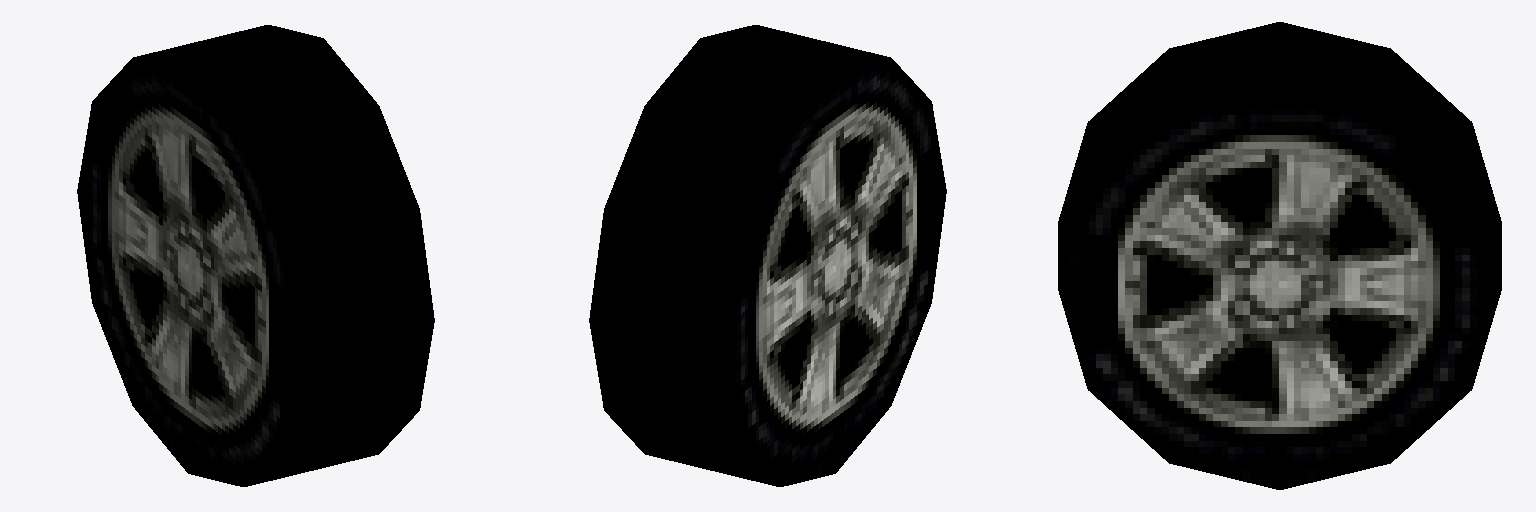
3 renders of one model, left to right at view 1: azimuth 30°, elevation 25°; view 2: azimuth 150°, elevation 25°; view 3: azimuth 270°, elevation 25°, orthographic.
Size of the model in its own units: 0.1037 by 0.294 by 0.294.
1 materials, 1 textured.